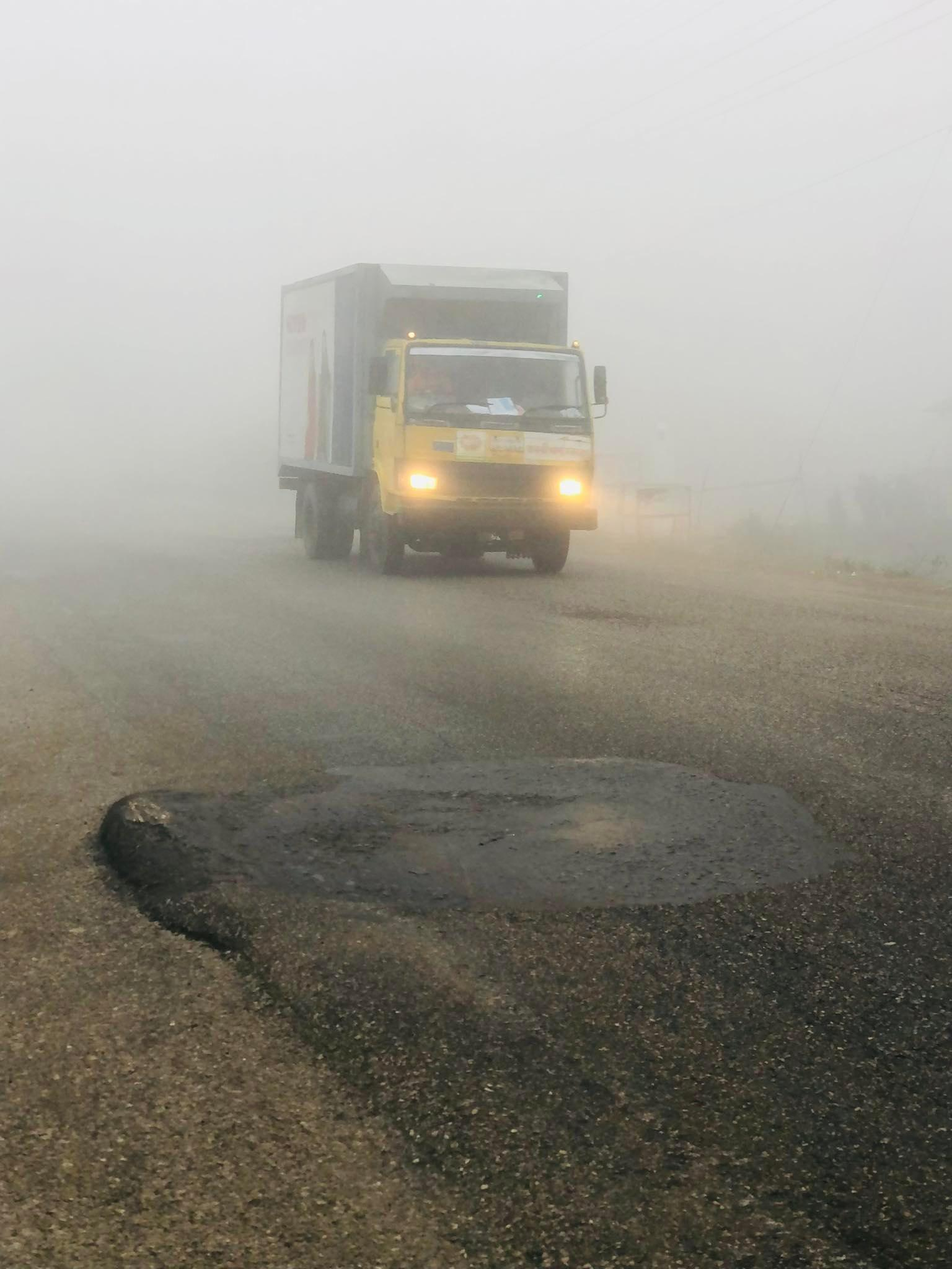Truck: (233, 243, 648, 595)
